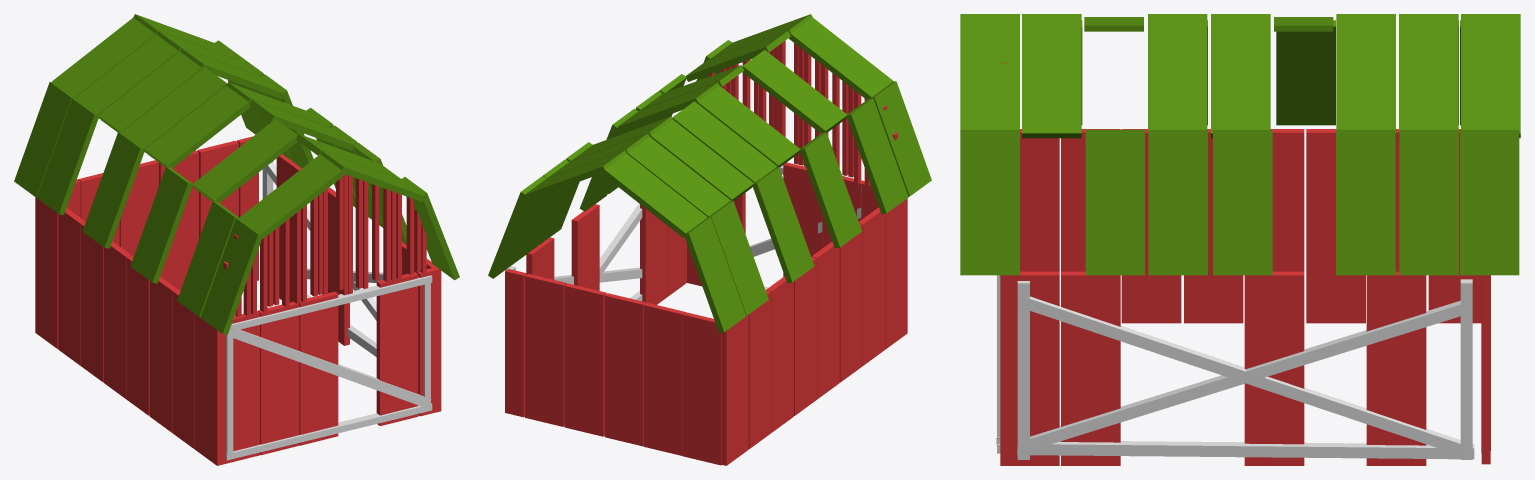
File: AmbarMiddle.fbx
3 renders of one model, left to right at view 1: azimuth 30°, elevation 25°; view 2: azimuth 150°, elevation 25°; view 3: azimuth 270°, elevation 25°, orthographic. The views are drawn at different scales.
Visible parts, largest first — view 1: Cube.056, Cube.054, Cube.053, Cube.008, Cube.052, Cube.012, Cube.041, Cube.010, Cube.021, Cube.045, Cube.049, Cube.035 (+58 smaller); view 2: Cube.061, Cube.059, Cube.060, Cube.062, Cube.058, Cube.015, Cube.009, Cube.037, Cube.041, Cube.021, Cube.045, Cube.051 (+36 smaller); view 3: Cube.004, Cube.006, Cube.001, Cube.038, Cube.042, Cube.040, Cube.034, Cube.046, Cube.048, Cube.050, Cube, Cube.018 (+24 smaller).
Part boxes in pixels (box(x1,y1,x2,y2)): Cube.056: box(376, 272, 418, 425); Cube.054: box(299, 291, 338, 445); Cube.053: box(257, 301, 299, 455); Cube.008: box(195, 314, 222, 465); Cube.052: box(221, 311, 259, 464); Cube.012: box(103, 241, 131, 398); Cube.041: box(130, 167, 192, 283); Cube.010: box(149, 276, 177, 432); Cube.021: box(192, 119, 297, 202); Cube.045: box(82, 132, 144, 248); Cube.049: box(36, 98, 98, 214); Cube.035: box(200, 218, 262, 334); Cube.061: box(564, 283, 606, 436); Cube.059: box(643, 302, 685, 455); Cube.060: box(604, 293, 646, 446); Cube.062: box(525, 274, 566, 426); Cube.058: box(682, 312, 721, 465); Cube.015: box(722, 315, 748, 465); Cube.009: box(859, 207, 885, 365); Cube.037: box(846, 98, 908, 214); Cube.041: box(800, 132, 861, 248); Cube.021: box(742, 50, 847, 133); Cube.045: box(752, 167, 814, 283); Cube.051: box(684, 217, 746, 333); Cube.004: box(1244, 271, 1304, 465); Cube.006: box(1366, 271, 1426, 465); Cube.001: box(1061, 271, 1120, 465); Cube.038: box(1085, 129, 1144, 275); Cube.042: box(1213, 129, 1272, 275); Cube.040: box(1148, 129, 1207, 275); Cube.034: box(960, 130, 1019, 275); Cube.046: box(1336, 130, 1395, 275); Cube.048: box(1399, 130, 1458, 275); Cube.050: box(1460, 129, 1519, 275); Cube: box(1000, 271, 1059, 465); Cube.018: box(1022, 14, 1081, 138).
Size of the model in its own units: 1007 by 1145 by 1535.
